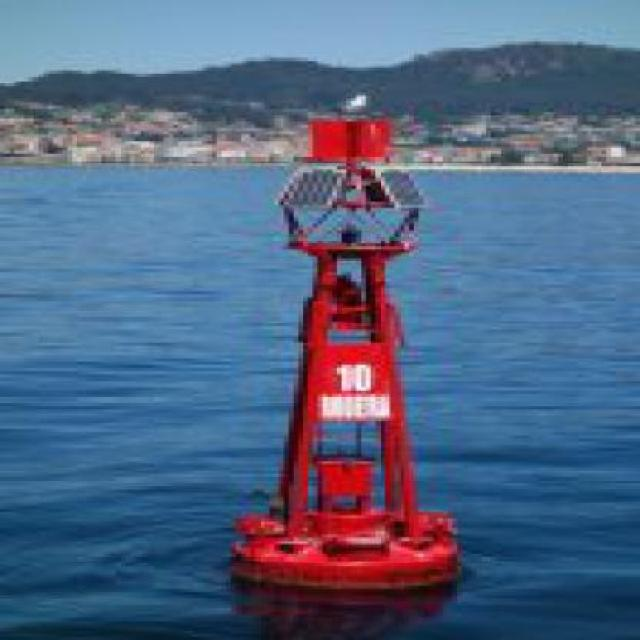buoy: (213, 84, 482, 596)
